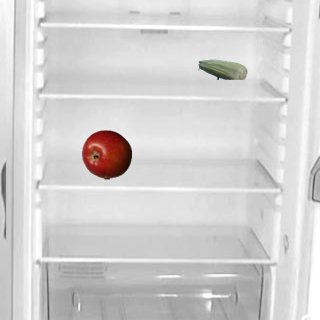Apple Braeburn: (81, 129, 131, 179)
Corn Husk: (197, 44, 247, 94)
